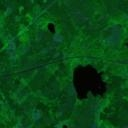alloviz: (71, 62, 107, 100), (46, 21, 57, 35)
